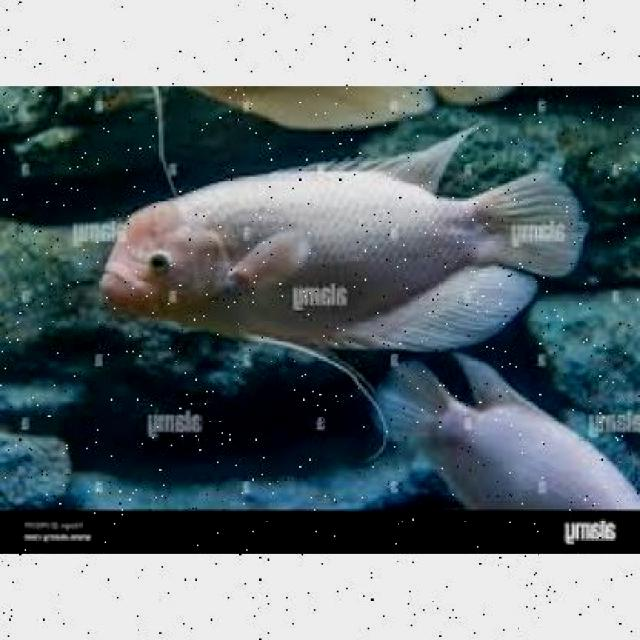gurame: (99, 137, 587, 360)
